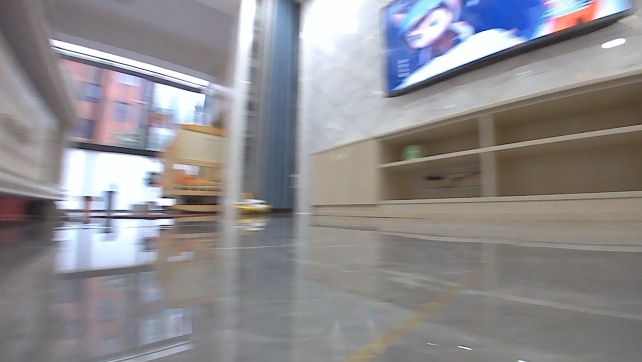TV_stand1: (300, 65, 641, 224)
